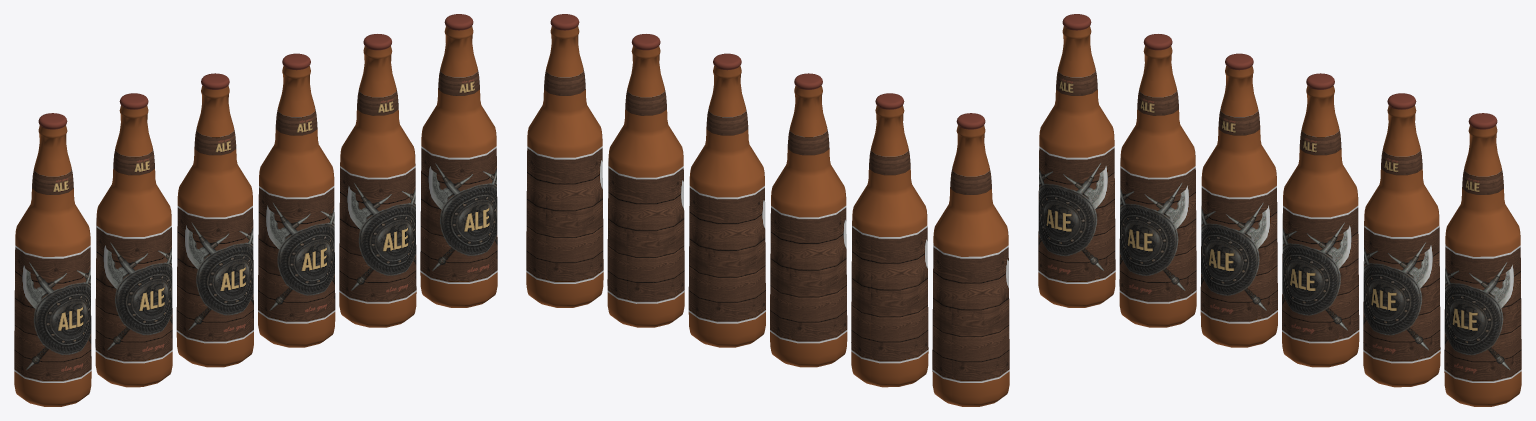
File: beerbottle2_edited_6x1.gltf
The picture shows the model from 3 angles, left to right: view 1: azimuth 30°, elevation 25°; view 2: azimuth 150°, elevation 25°; view 3: azimuth 330°, elevation 25°; orthographic projection.
Parts seen in each view (by area): view 1: beerbottle_beerbottle_blinn_0.001, beerbottle_beerbottle_blinn_0.005, beerbottle, beerbottle_beerbottle_blinn_0.004, beerbottle_beerbottle_blinn_0.003, beerbottle_beerbottle_blinn_0.002; view 2: beerbottle_beerbottle_blinn_0.001, beerbottle_beerbottle_blinn_0.005, beerbottle, beerbottle_beerbottle_blinn_0.002, beerbottle_beerbottle_blinn_0.004, beerbottle_beerbottle_blinn_0.003; view 3: beerbottle_beerbottle_blinn_0.004, beerbottle_beerbottle_blinn_0.005, beerbottle, beerbottle_beerbottle_blinn_0.001, beerbottle_beerbottle_blinn_0.003, beerbottle_beerbottle_blinn_0.002.
Boxes of the visible parts, bbox=[...] form: beerbottle_beerbottle_blinn_0.001: bbox=[95, 93, 172, 387]; beerbottle_beerbottle_blinn_0.005: bbox=[420, 14, 497, 307]; beerbottle: bbox=[14, 113, 91, 406]; beerbottle_beerbottle_blinn_0.004: bbox=[339, 34, 416, 327]; beerbottle_beerbottle_blinn_0.003: bbox=[258, 53, 335, 347]; beerbottle_beerbottle_blinn_0.002: bbox=[176, 73, 253, 367]; beerbottle_beerbottle_blinn_0.001: bbox=[851, 93, 928, 387]; beerbottle_beerbottle_blinn_0.005: bbox=[526, 14, 603, 307]; beerbottle: bbox=[932, 113, 1009, 406]; beerbottle_beerbottle_blinn_0.002: bbox=[770, 73, 847, 367]; beerbottle_beerbottle_blinn_0.004: bbox=[607, 34, 684, 327]; beerbottle_beerbottle_blinn_0.003: bbox=[688, 53, 765, 347]; beerbottle_beerbottle_blinn_0.004: bbox=[1363, 93, 1440, 387]; beerbottle_beerbottle_blinn_0.005: bbox=[1444, 113, 1521, 406]; beerbottle: bbox=[1038, 14, 1115, 307]; beerbottle_beerbottle_blinn_0.001: bbox=[1119, 34, 1196, 327]; beerbottle_beerbottle_blinn_0.003: bbox=[1282, 73, 1359, 367]; beerbottle_beerbottle_blinn_0.002: bbox=[1200, 53, 1277, 347].
Size of the model in its own units: 40.78 by 23.03 by 5.78.
6 materials, 6 textured.
